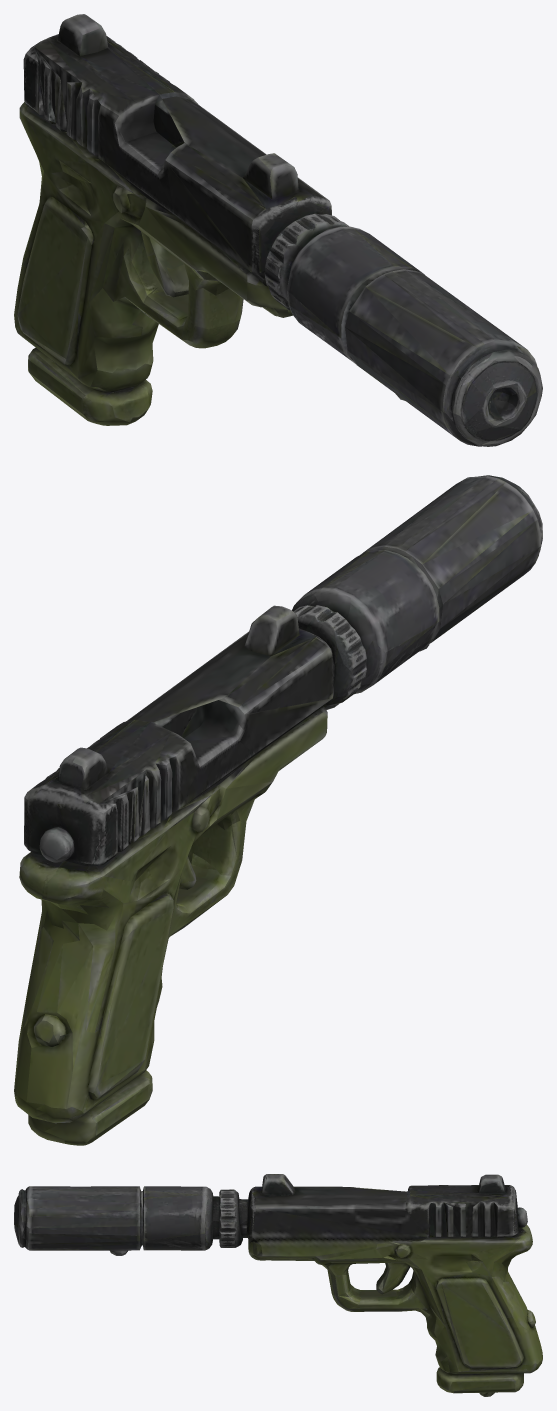
The model's file is gun_hush.glb.
3 views of the same model, one above another, from view 1: azimuth 30°, elevation 25°; view 2: azimuth 150°, elevation 25°; view 3: azimuth 270°, elevation 25° (orthographic). The views are drawn at different scales.
Size of the model in its own units: 0.0412 by 0.1564 by 0.34.
Materials: 1 (1 with a texture image).
